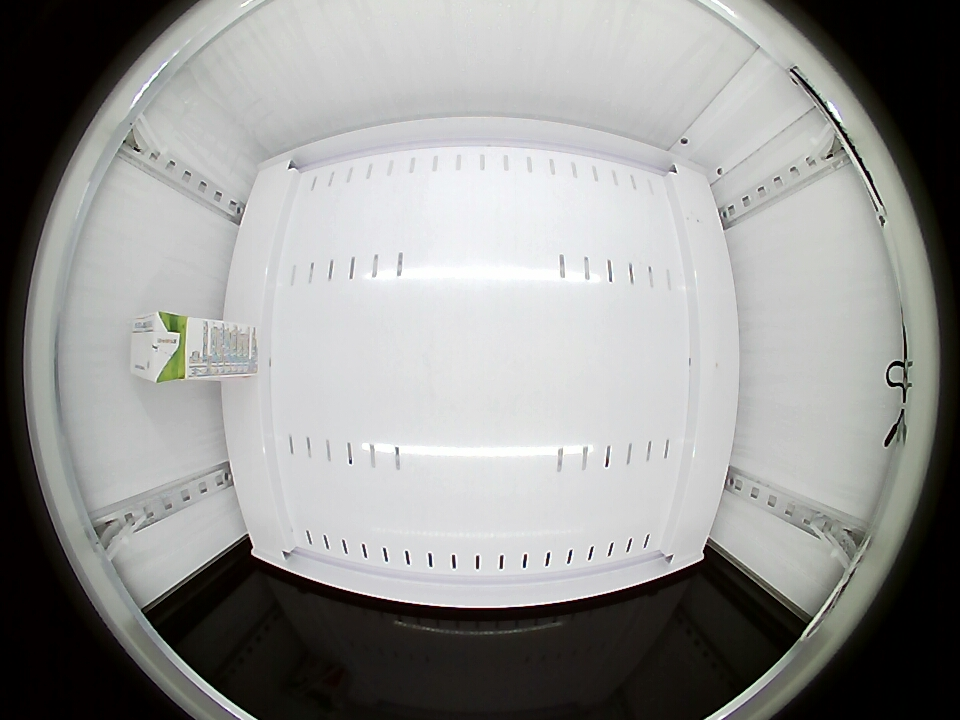mengniu: (130, 311, 193, 384)
